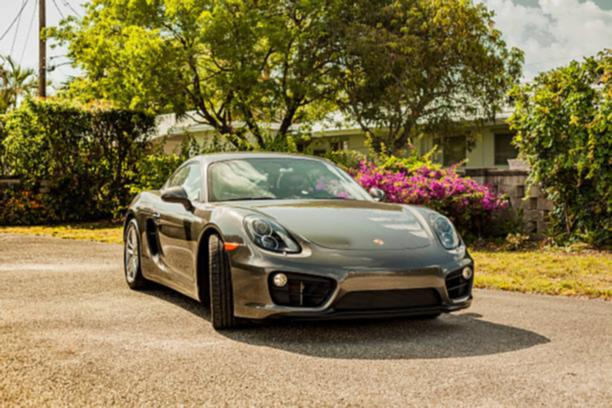porsche: (369, 235, 390, 246)
